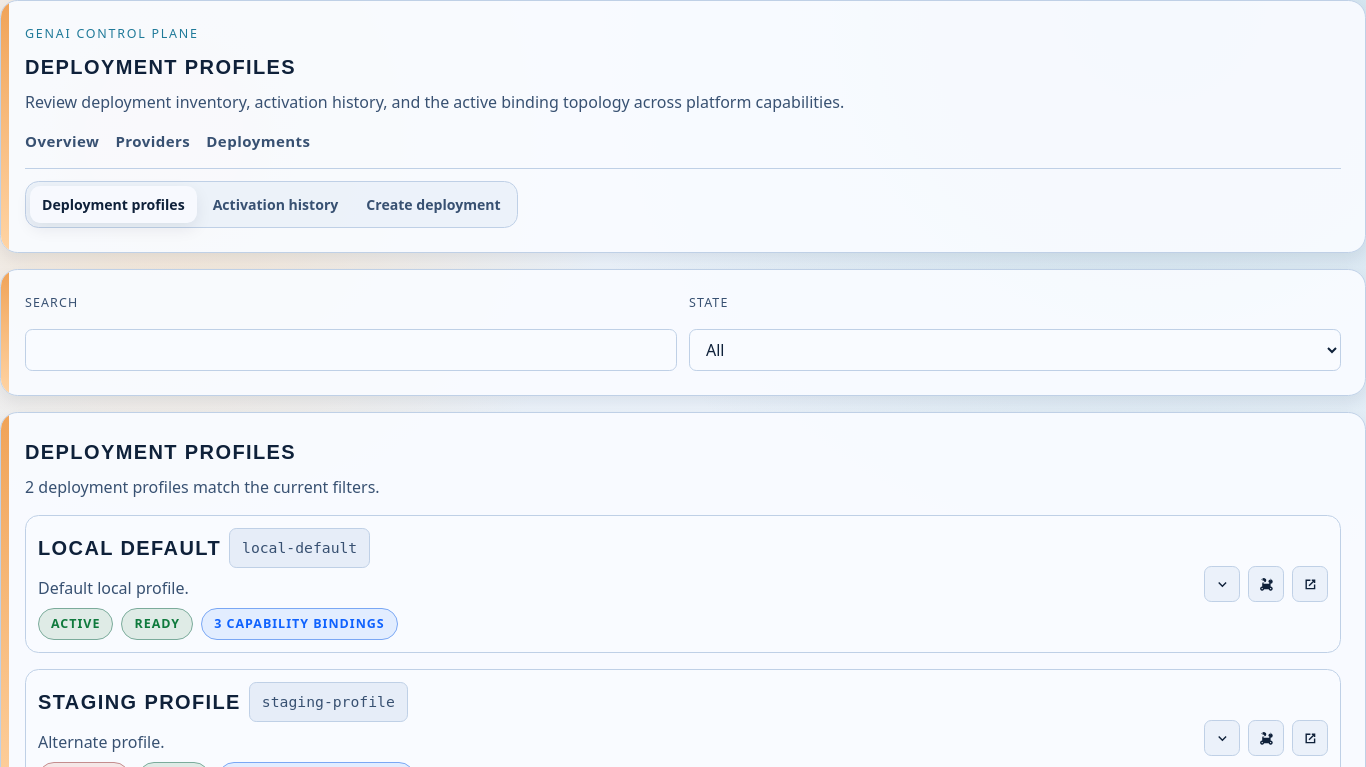
it: PlatformDeploymentsPage › filters deployments by search text
In the field labelled "Search": (351, 350) [25,329,677,371], type "staging"
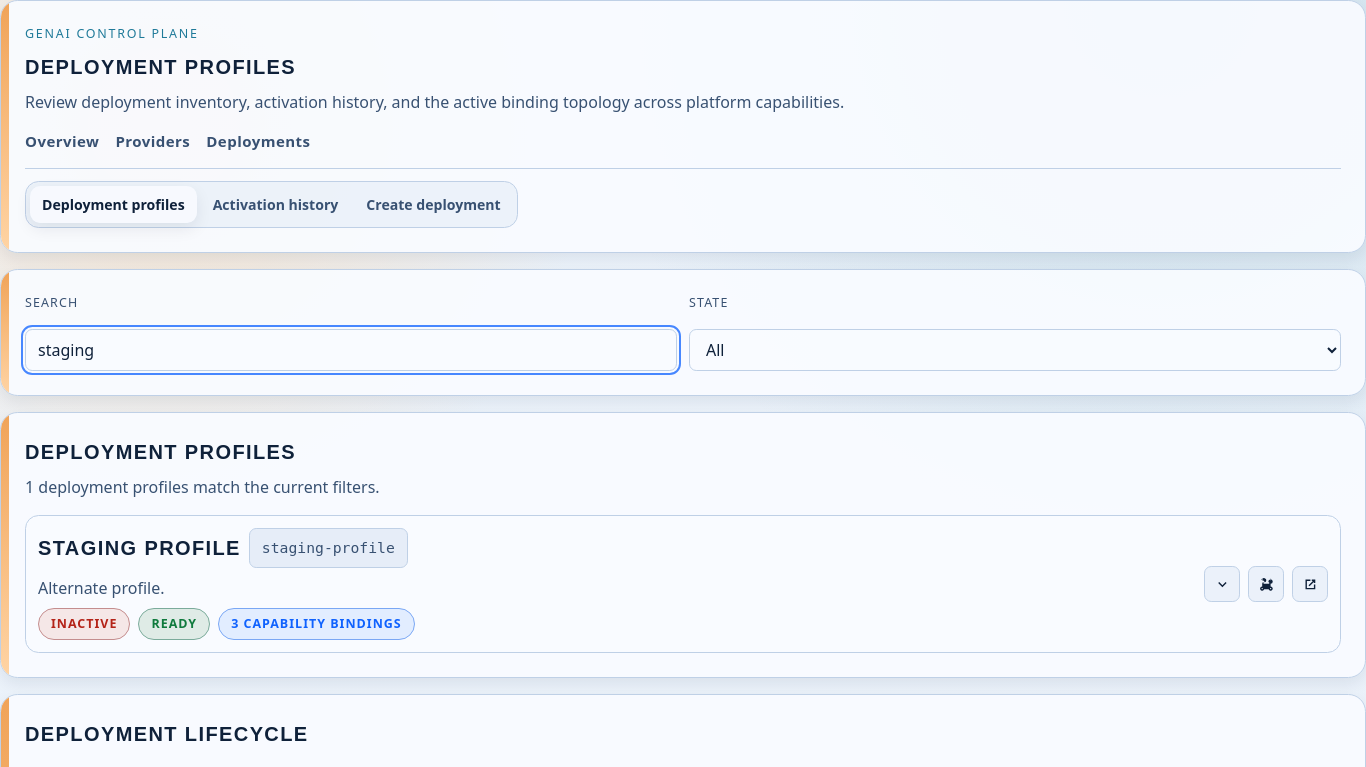
Expected: the heading "Staging Profile" is shown, [38,533,241,563]
Now the heading "Local Default" is gone
